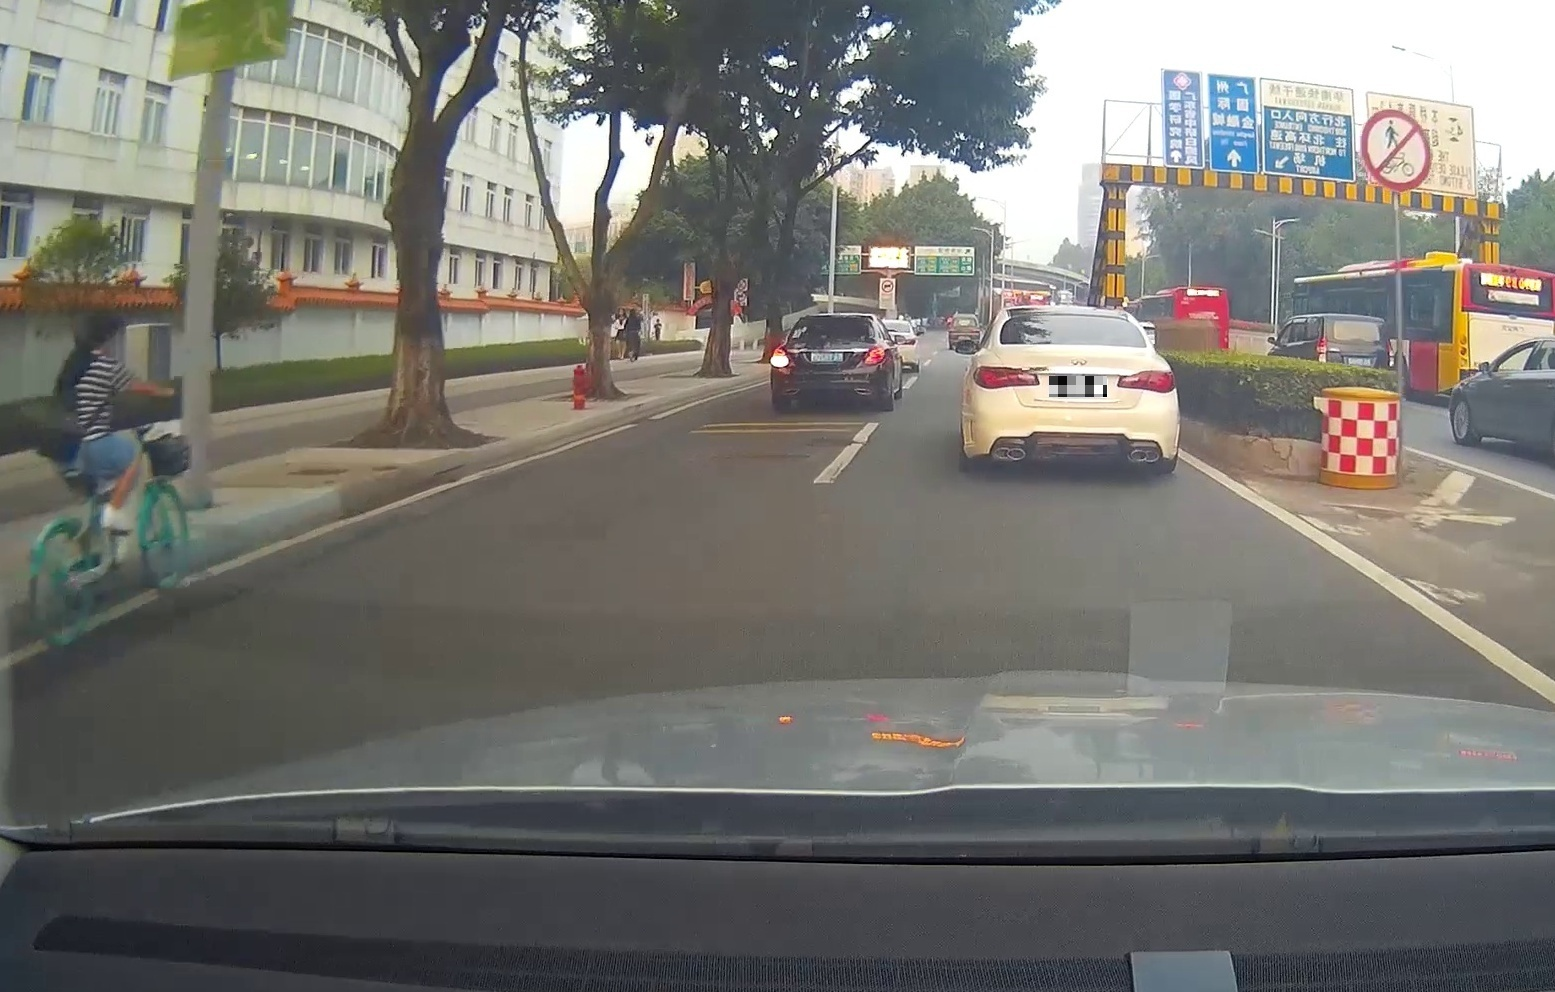L_light: (972, 365, 1040, 391), (771, 346, 790, 367)
R_light: (1118, 368, 1176, 393), (865, 346, 885, 365)
T_light: (1067, 314, 1089, 321), (827, 317, 846, 322)
day-left: (768, 313, 891, 410)
day-no: (960, 303, 1181, 473)
plate_1: (1050, 376, 1107, 397)
